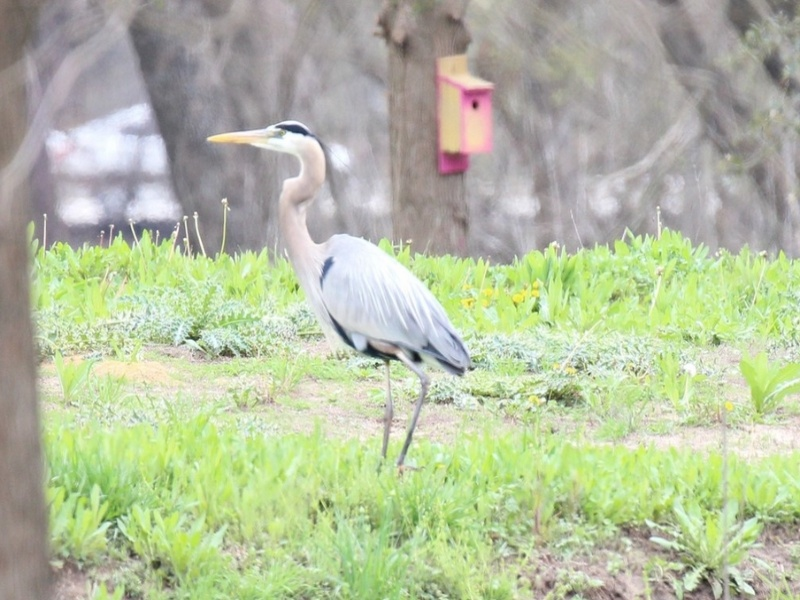heron: (197, 114, 481, 479)
